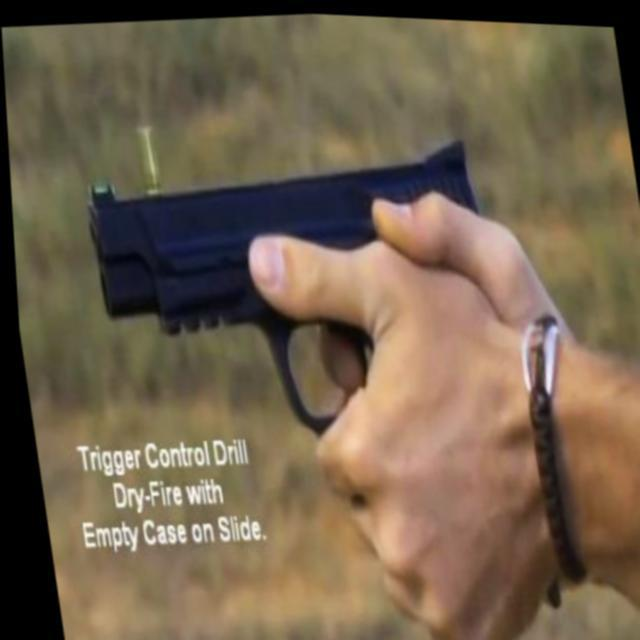weapon: (60, 102, 588, 638)
